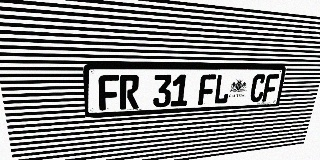1: (170, 74, 189, 107)
3: (153, 74, 172, 108)
C: (249, 74, 267, 102)
F: (98, 75, 119, 111), (198, 74, 216, 105), (262, 74, 279, 102)
L: (213, 74, 231, 104)
R: (120, 75, 139, 109)
